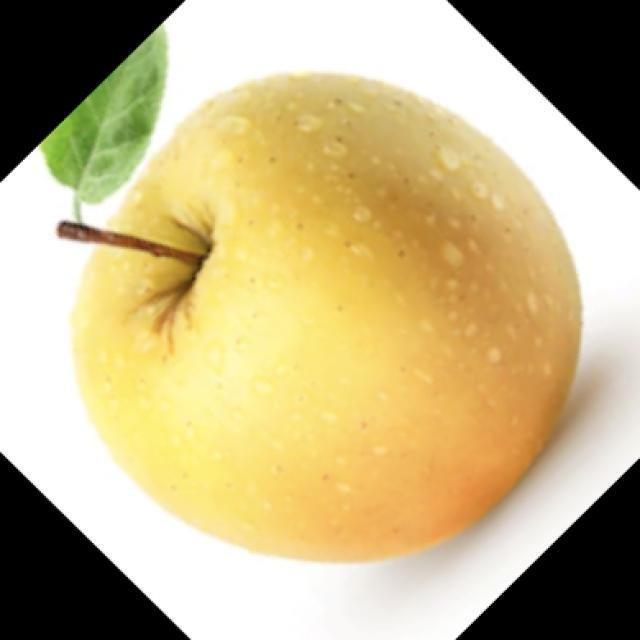Fresh Apple: (65, 68, 585, 560)
